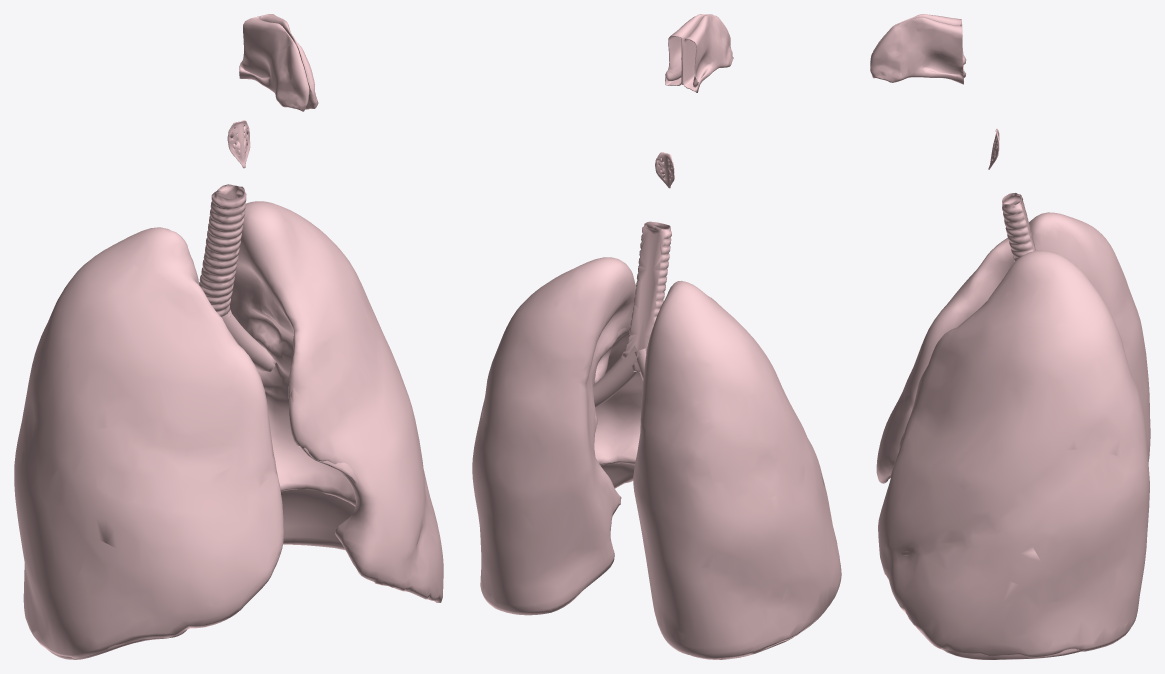
File: respiratory.glb
3 views of the same model, side by side, from view 1: azimuth 30°, elevation 25°; view 2: azimuth 150°, elevation 25°; view 3: azimuth 270°, elevation 25° (orthographic). The views are drawn at different scales.
Parts seen in each view (by area): view 1: RES.pleura.C, RES.mucosa_of_nasal_cavity.C, RES.trachea.C, RES.left_main_bronchus.C, RES.epiglottis.C; view 2: RES.pleura.C, RES.mucosa_of_nasal_cavity.C, RES.trachea.C, RES.left_main_bronchus.C; view 3: RES.pleura.C, RES.mucosa_of_nasal_cavity.C, RES.trachea.C, RES.inferior_lobe_of_left_lung.C.
Part boxes in pixels (x1,y1,x2,y2): RES.pleura.C: (14,201,443,658); RES.mucosa_of_nasal_cavity.C: (239,14,318,111); RES.trachea.C: (199,184,246,316); RES.left_main_bronchus.C: (221,311,273,371); RES.epiglottis.C: (227,120,250,168); RES.pleura.C: (472,257,841,659); RES.mucosa_of_nasal_cavity.C: (665,14,733,92); RES.trachea.C: (621,221,671,372); RES.left_main_bronchus.C: (593,345,640,407); RES.pleura.C: (876,212,1150,657); RES.mucosa_of_nasal_cavity.C: (870,14,966,84); RES.trachea.C: (1002,193,1035,261); RES.inferior_lobe_of_left_lung.C: (942,648,1082,659).
Bounding box in the file's own units: 0.2633 × 0.4306 × 0.1927.
